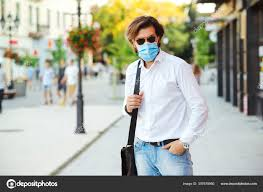with-mask: (124, 8, 166, 66)
